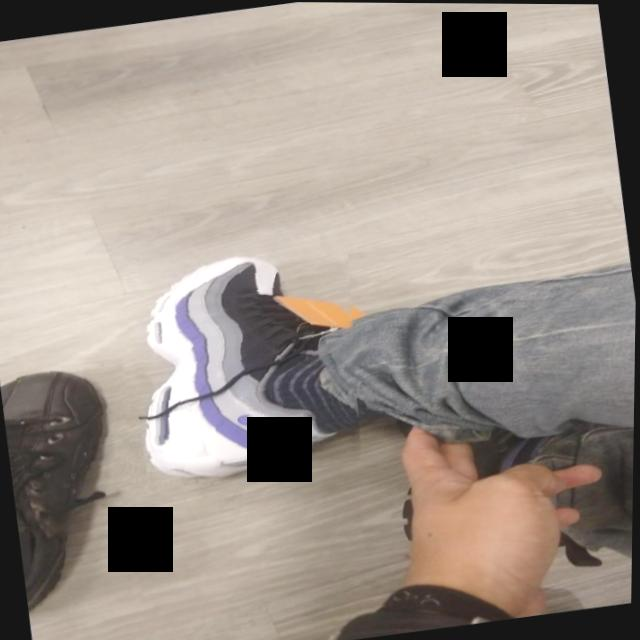shoe: (118, 229, 379, 491), (0, 357, 159, 624)
